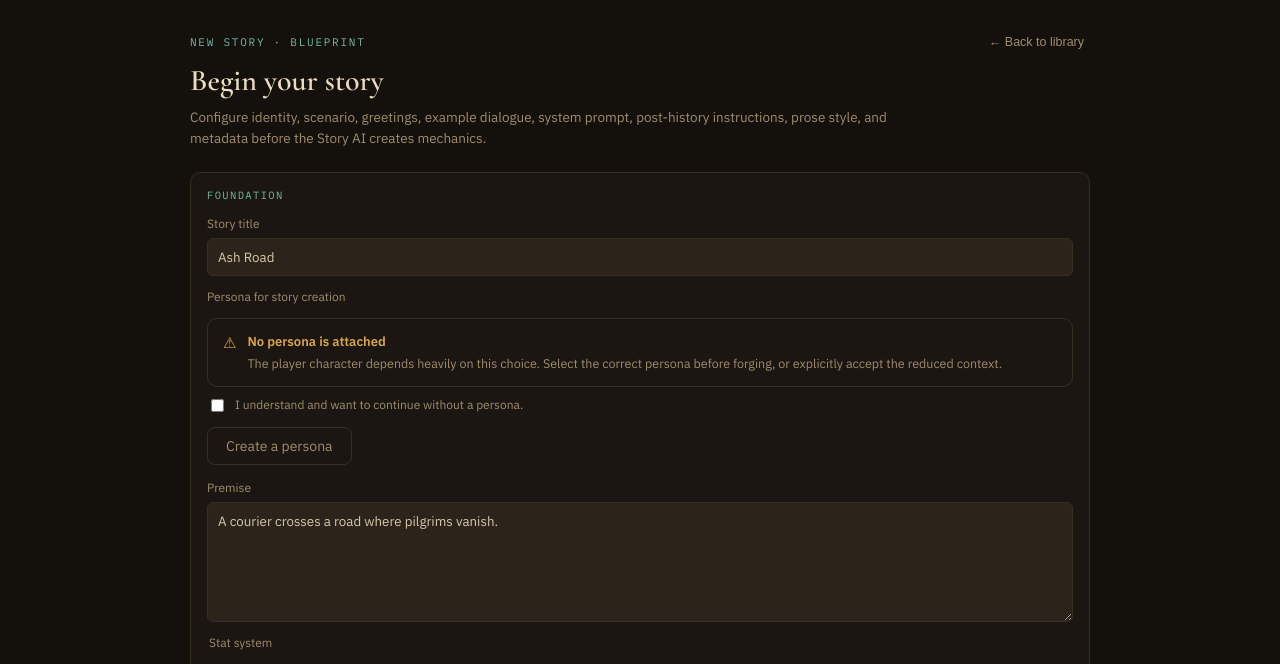
Test case: StoryBlueprint create flow › blocks forging without a persona until the warning is explicitly acknowledged
Check: the text "No persona is attached" is shown, box [248,333,386,350]
Click the checkbox labelled "I understand and want to continue without a persona." at (218, 405), box [211,399,224,412]
(page scrolled)
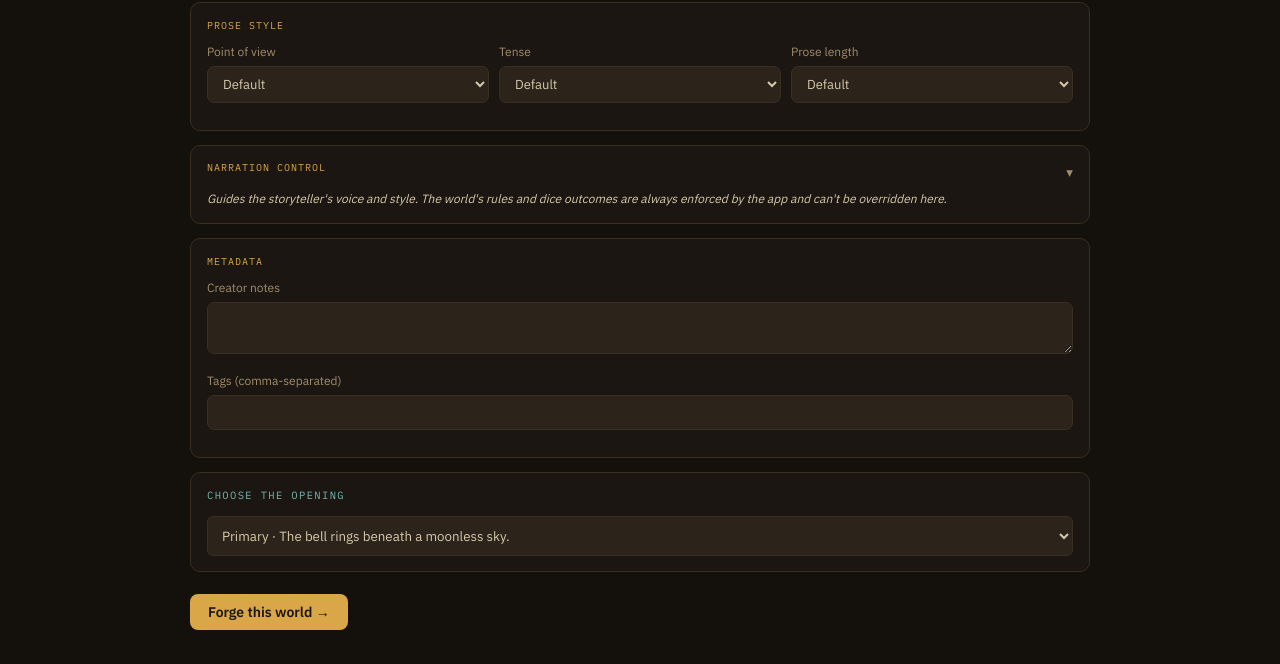
Check: the button "Forge this world →" is enabled, box [190,594,348,630]
